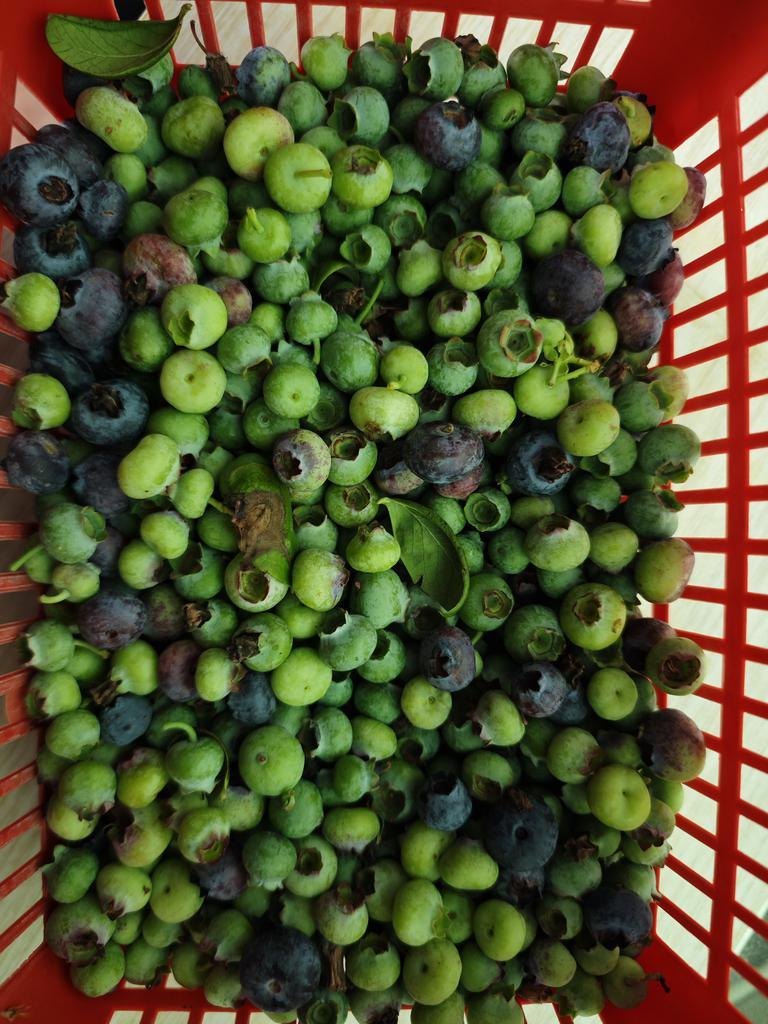RipeBlueBerry: (238, 929, 329, 1015), (3, 141, 82, 228), (403, 416, 488, 489), (55, 264, 125, 351), (485, 799, 564, 874), (74, 376, 147, 444), (413, 100, 484, 167), (514, 429, 578, 500)
Semi-RipeBlueBerry: (124, 231, 198, 304)
UnripeBlueBerry: (238, 726, 309, 800), (587, 758, 654, 836), (264, 142, 334, 214), (155, 350, 229, 415), (293, 546, 352, 614), (273, 429, 332, 496), (441, 225, 500, 288)
